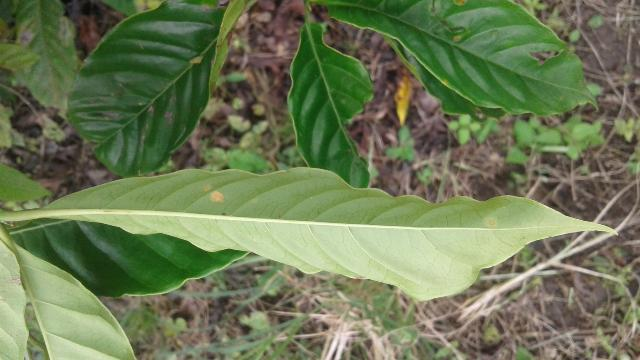rust_level_1: (39, 169, 618, 299)
